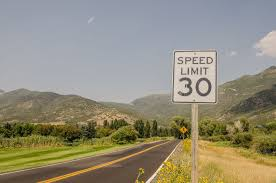speedLimit30: (172, 48, 220, 105)
